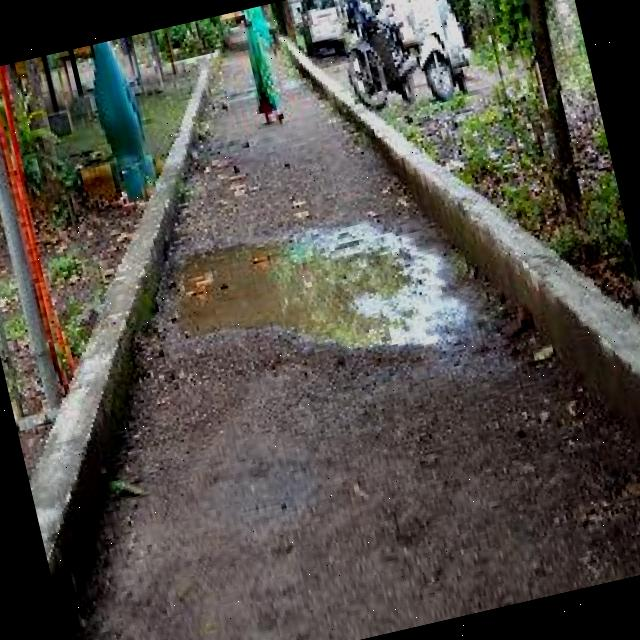waterlogging: (163, 184, 464, 403)
